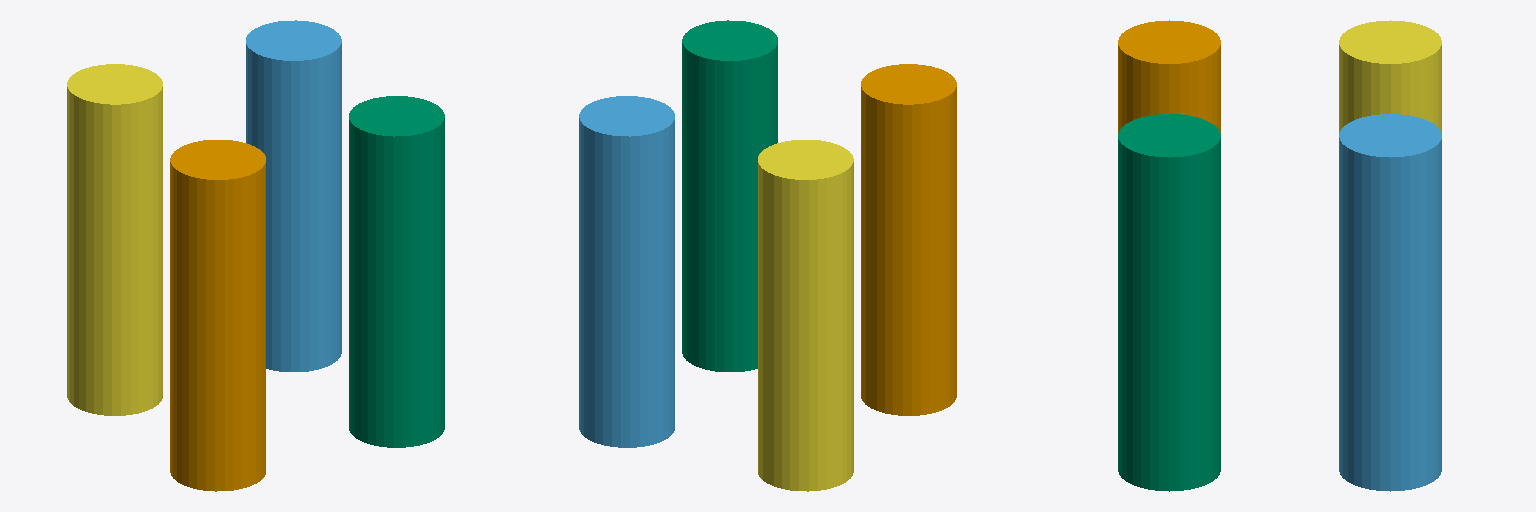
robot.urdf — legs1:
<?xml version="1.0"?>
<robot name="legs1">

<!--============================================= -->
  <link name="leg_1">
    <visual>
      <origin rpy="0 0 0" xyz="0 0 0"/>
      <geometry>
        <cylinder radius="0.07" length="0.5"/>
      </geometry>     
    </visual>

    <collision>
       <origin rpy="0 0 0" xyz="0 0 0"/>
      <geometry>
        <cylinder radius="0.07" length="0.5"/>
      </geometry>
    </collision>

    <inertial>
      <mass value="4"/>
      <inertia ixx="0.088233" iyy="0.088233" izz="0.0098" ixy="0" iyz="0" ixz="0"/>
	    <origin rpy="0 0 0" xyz="0 0 0"/>
      <!--follow the link to find the inertia of the box 
	https://en.wikipedia.org/wiki/List_of_moments_of_inertia-->
    </inertial>

  </link>

  <link name="leg_2">
    <visual>
      <origin rpy="0 0 0" xyz="0 0 0"/>
      <geometry>
        <cylinder radius="0.07" length="0.5"/>
      </geometry>     
    </visual>

    <collision>
       <origin rpy="0 0 0" xyz="0 0 0"/>
      <geometry>
        <cylinder radius="0.07" length="0.5"/>
      </geometry>
    </collision>

    <inertial>
      <mass value="4"/>
      <inertia ixx="0.088233" iyy="0.088233" izz="0.0098" ixy="0" iyz="0" ixz="0"/>
	    <origin rpy="0 0 0" xyz="0 0 0"/>
    </inertial>

  </link>

  <link name="leg_3">
    <visual>
      <origin rpy="0 0 0" xyz="0 0 0"/>
      <geometry>
        <cylinder radius="0.07" length="0.5"/>
      </geometry>     
    </visual>

    <collision>
       <origin rpy="0 0 0" xyz="0 0 0"/>
      <geometry>
        <cylinder radius="0.07" length="0.5"/>
      </geometry>
    </collision>

    <inertial>
      <mass value="4"/>
      <inertia ixx="0.088233" iyy="0.088233" izz="0.0098" ixy="0" iyz="0" ixz="0"/>
	    <origin rpy="0 0 0" xyz="0 0 0"/>
    </inertial>

  </link>

  <link name="leg_4">
    <visual>
      <origin rpy="0 0 0" xyz="0 0 0"/>
      <geometry>
        <cylinder radius="0.07" length="0.5"/>
      </geometry>     
    </visual>

    <collision>
       <origin rpy="0 0 0" xyz="0 0 0"/>
      <geometry>
        <cylinder radius="0.07" length="0.5"/>
      </geometry>
    </collision>

    <inertial>
      <mass value="4"/>
      <inertia ixx="0.088233" iyy="0.088233" izz="0.0098" ixy="0" iyz="0" ixz="0"/>
	    <origin rpy="0 0 0" xyz="0 0 0"/>
    </inertial>

  </link>

  <joint name="leg1_to_leg2" type="fixed">
    <origin xyz="0.3 0.3 0" rpy="0 0 0"/>
    <parent link="leg_1"/>
    <child link="leg_2"/>
  </joint>

  <joint name="leg1_to_leg3" type="fixed">
    <origin xyz="0.3 0 0" rpy="0 0 0"/>
    <parent link="leg_1"/>
    <child link="leg_3"/>
  </joint>

  <joint name="leg1_to_leg4" type="fixed">
    <origin xyz="0 0.3 0" rpy="0 0 0"/>
    <parent link="leg_1"/>
    <child link="leg_4"/>
  </joint>

<gazebo>
    <plugin name="gazebo_ros_control" filename="libgazebo_ros_control.so">
      <robotNamespace>/legs1</robotNamespace>
      <legacyModeNS>true</legacyModeNS>
      <robotSimType>gazebo_ros_control/DefaultRobotHWSim</robotSimType>
    </plugin>
  </gazebo>

 <gazebo>
    <plugin name="deepexpress_odom_controller" filename="libgazebo_ros_planar_move.so">
      <commandTopic>/legs1/command_velocity</commandTopic>
      <odometryTopic>odom</odometryTopic>
      <odometryFrame>odom</odometryFrame>
      <odometryRate>30</odometryRate>
      <robotBaseFrame>legs1</robotBaseFrame>
    </plugin>
  </gazebo>

  <gazebo reference="leg_1">
    <mu1>0.0</mu1>
    <mu2>0.0</mu2>

    <kp  value="1.0e7" />
    <kd  value="1e1" />
    <material>Gazebo/Red</material>
  </gazebo>

  <gazebo reference="leg_2">
    <mu1>0.0</mu1>
    <mu2>0.0</mu2>

    <kp  value="1.0e7" />
    <kd  value="1e1" />
    <material>Gazebo/Red</material>
  </gazebo>

  <gazebo reference="leg_3">
    <mu1>0.0</mu1>
    <mu2>0.0</mu2>

    <kp  value="1.0e7" />
    <kd  value="1e1" />
    <material>Gazebo/Red</material>
  </gazebo>

  <gazebo reference="leg_4">
    <mu1>0.0</mu1>
    <mu2>0.0</mu2>

    <kp  value="1.0e7" />
    <kd  value="1e1" />
    <material>Gazebo/Red</material>
  </gazebo>

</robot>

--- Render facts (derived) ---
3 views of the same robot in one strip: view 1: azimuth 30°, elevation 25°; view 2: azimuth 150°, elevation 25°; view 3: azimuth 270°, elevation 25° (orthographic).
Model legs1 with 4 links and 3 joints (3 fixed), rooted at leg_1, posed every joint at zero.
Visible links, largest first — view 1: leg_3, leg_4, leg_1, leg_2; view 2: leg_1, leg_2, leg_4, leg_3; view 3: leg_2, leg_3, leg_1, leg_4.
Boxes of the visible links, <box> form: leg_3: <box>349,96,444,447</box>; leg_4: <box>67,64,162,415</box>; leg_1: <box>170,140,265,491</box>; leg_2: <box>246,20,341,371</box>; leg_1: <box>861,64,956,415</box>; leg_2: <box>579,96,674,447</box>; leg_4: <box>758,140,853,491</box>; leg_3: <box>682,20,777,371</box>; leg_2: <box>1339,114,1441,491</box>; leg_3: <box>1118,114,1220,491</box>; leg_1: <box>1118,20,1220,132</box>; leg_4: <box>1339,20,1441,132</box>.
Size in the robot's own frame: 0.44 by 0.44 by 0.5 metres.
Geometry: primitives only (box / cylinder / sphere), no mesh files.